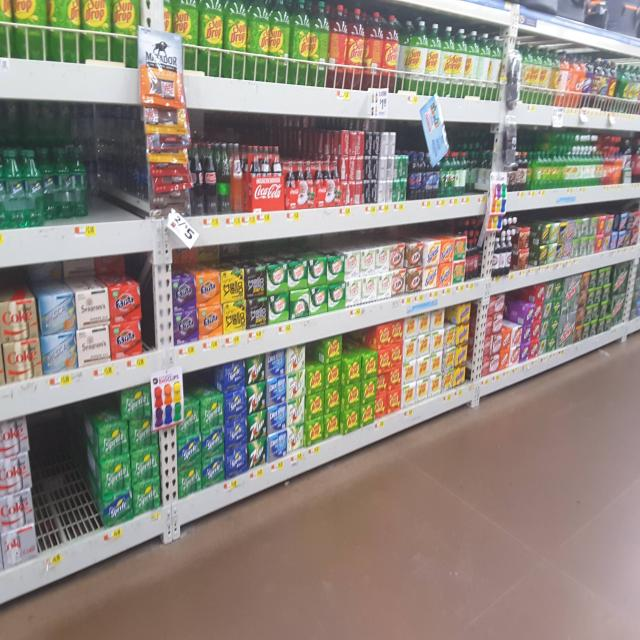void: (34, 403, 97, 552), (91, 103, 146, 225)
